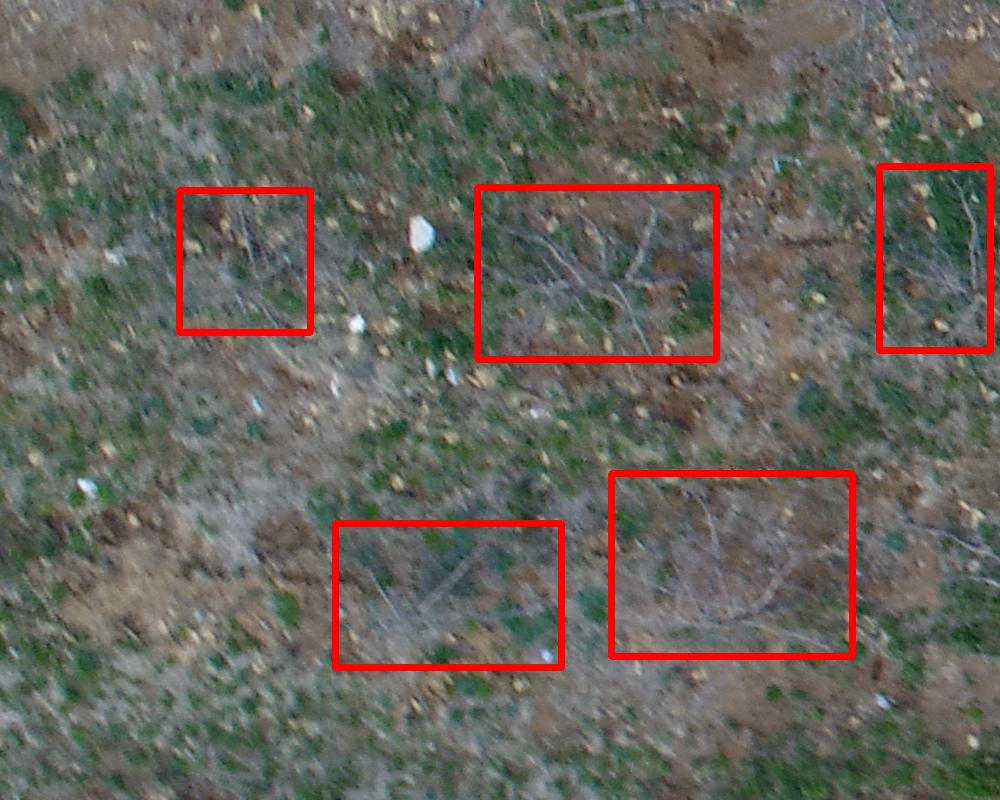apple: (611, 473, 852, 656), (477, 187, 716, 359), (335, 523, 561, 667), (879, 166, 990, 350), (179, 190, 310, 332)
